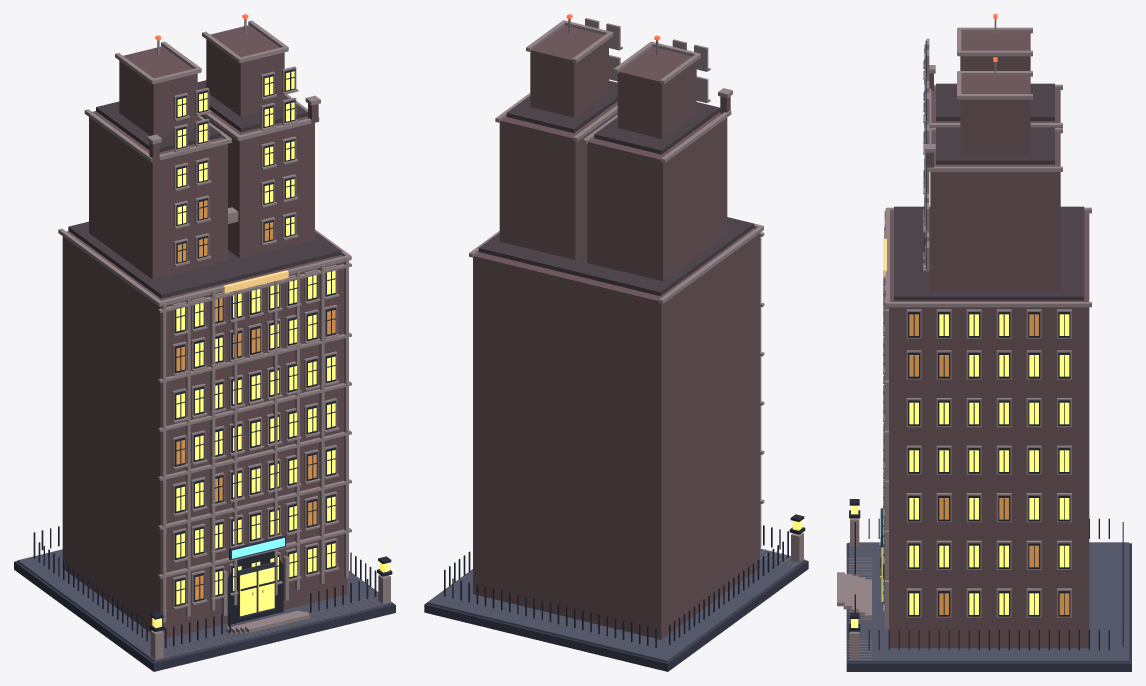
File: account_building_05.glb
3 views of the same model, side by side, from view 1: azimuth 30°, elevation 25°; view 2: azimuth 150°, elevation 25°; view 3: azimuth 270°, elevation 25° (orthographic). The views are drawn at different scales.
Visible parts, largest first — view 1: SM_Account_Building_05; view 2: SM_Account_Building_05; view 3: SM_Account_Building_05.
Boxes of the visible parts, x1,y1,x2,y2 form: SM_Account_Building_05: (14,14,395,671); SM_Account_Building_05: (424,14,808,671); SM_Account_Building_05: (837,14,1131,671).
Size of the model in its own units: 11.4 by 25.35 by 11.78.
